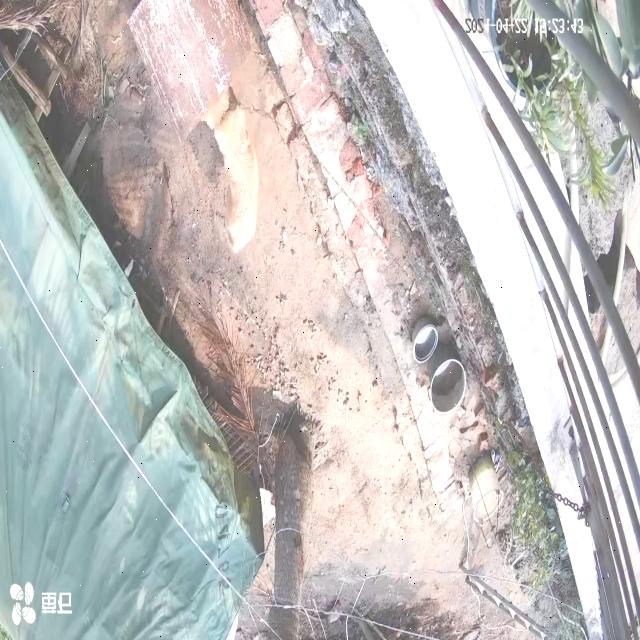dog: (201, 87, 261, 256)
